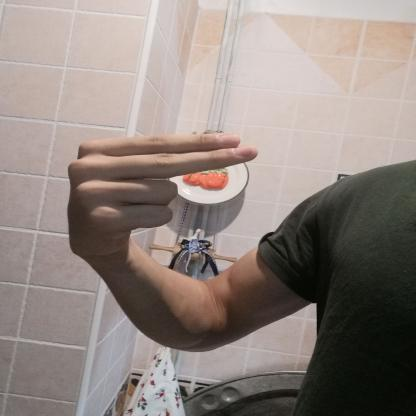AYN: (40, 118, 275, 268)
